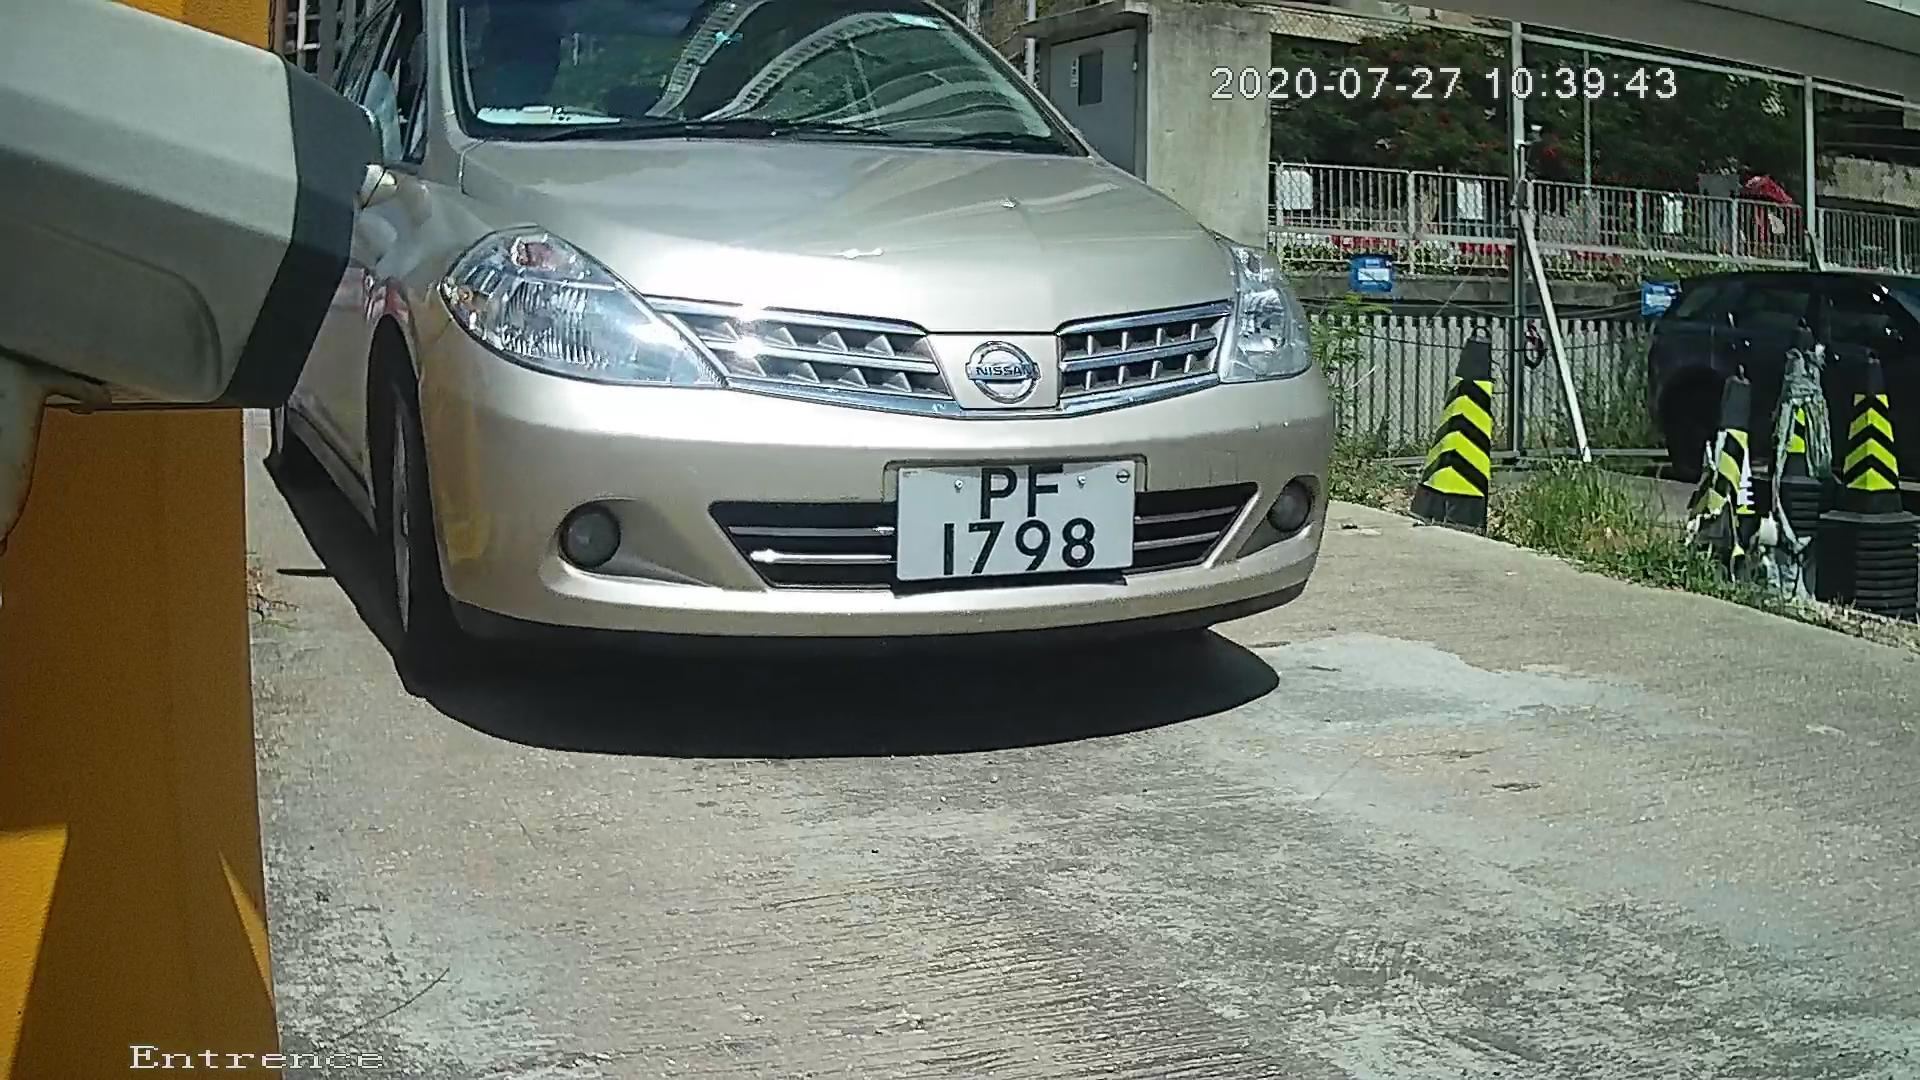Car: (103, 15, 1441, 777)
License Plate: (875, 444, 1149, 598)
